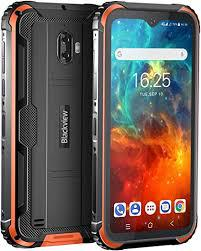Smartphone: (1, 6, 98, 242), (106, 0, 193, 244)
